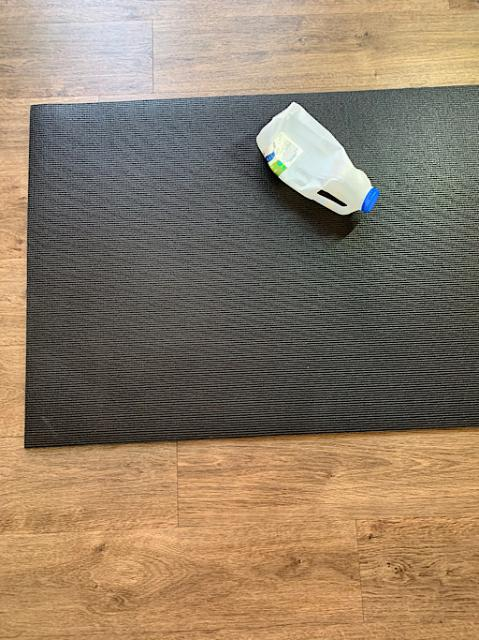plastic: (256, 101, 378, 213)
